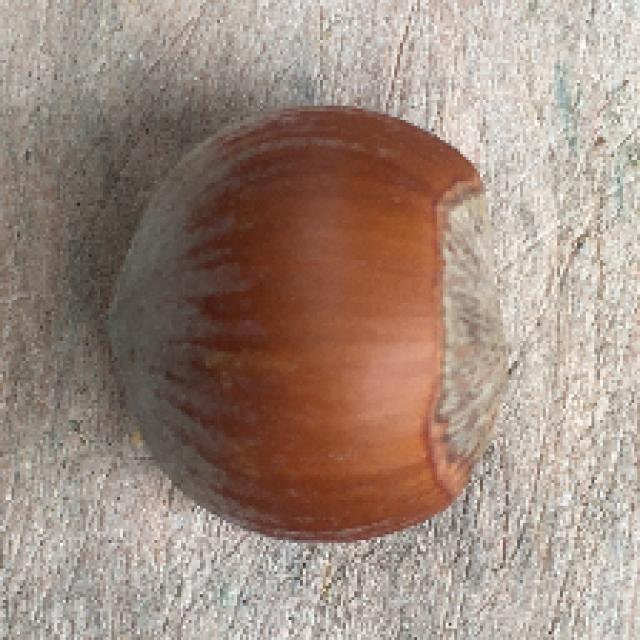qualityHazelnut: (98, 101, 521, 547)
